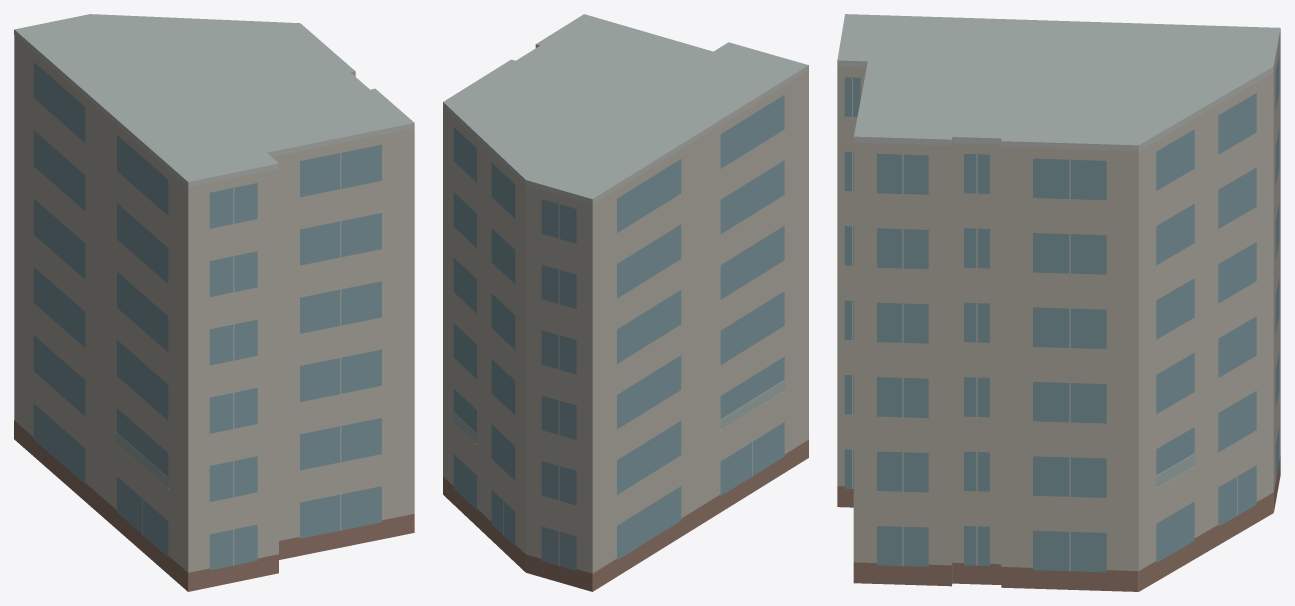
File: survey-upis-32665481.glb
3 renders of one model, left to right at view 1: azimuth 30°, elevation 25°; view 2: azimuth 150°, elevation 25°; view 3: azimuth 270°, elevation 25°, orthographic. The views are drawn at different scales.
Parts seen in each view (by area): view 1: survey-upis-32665481.tmp; view 2: survey-upis-32665481.tmp; view 3: survey-upis-32665481.tmp.
Part boxes in pixels (left/top/right/bottom): survey-upis-32665481.tmp: left=14, top=14, right=414, bottom=591; survey-upis-32665481.tmp: left=443, top=14, right=808, bottom=591; survey-upis-32665481.tmp: left=837, top=14, right=1280, bottom=591.
Bounding box in the file's own units: 11.55 × 18.3 × 16.48.
